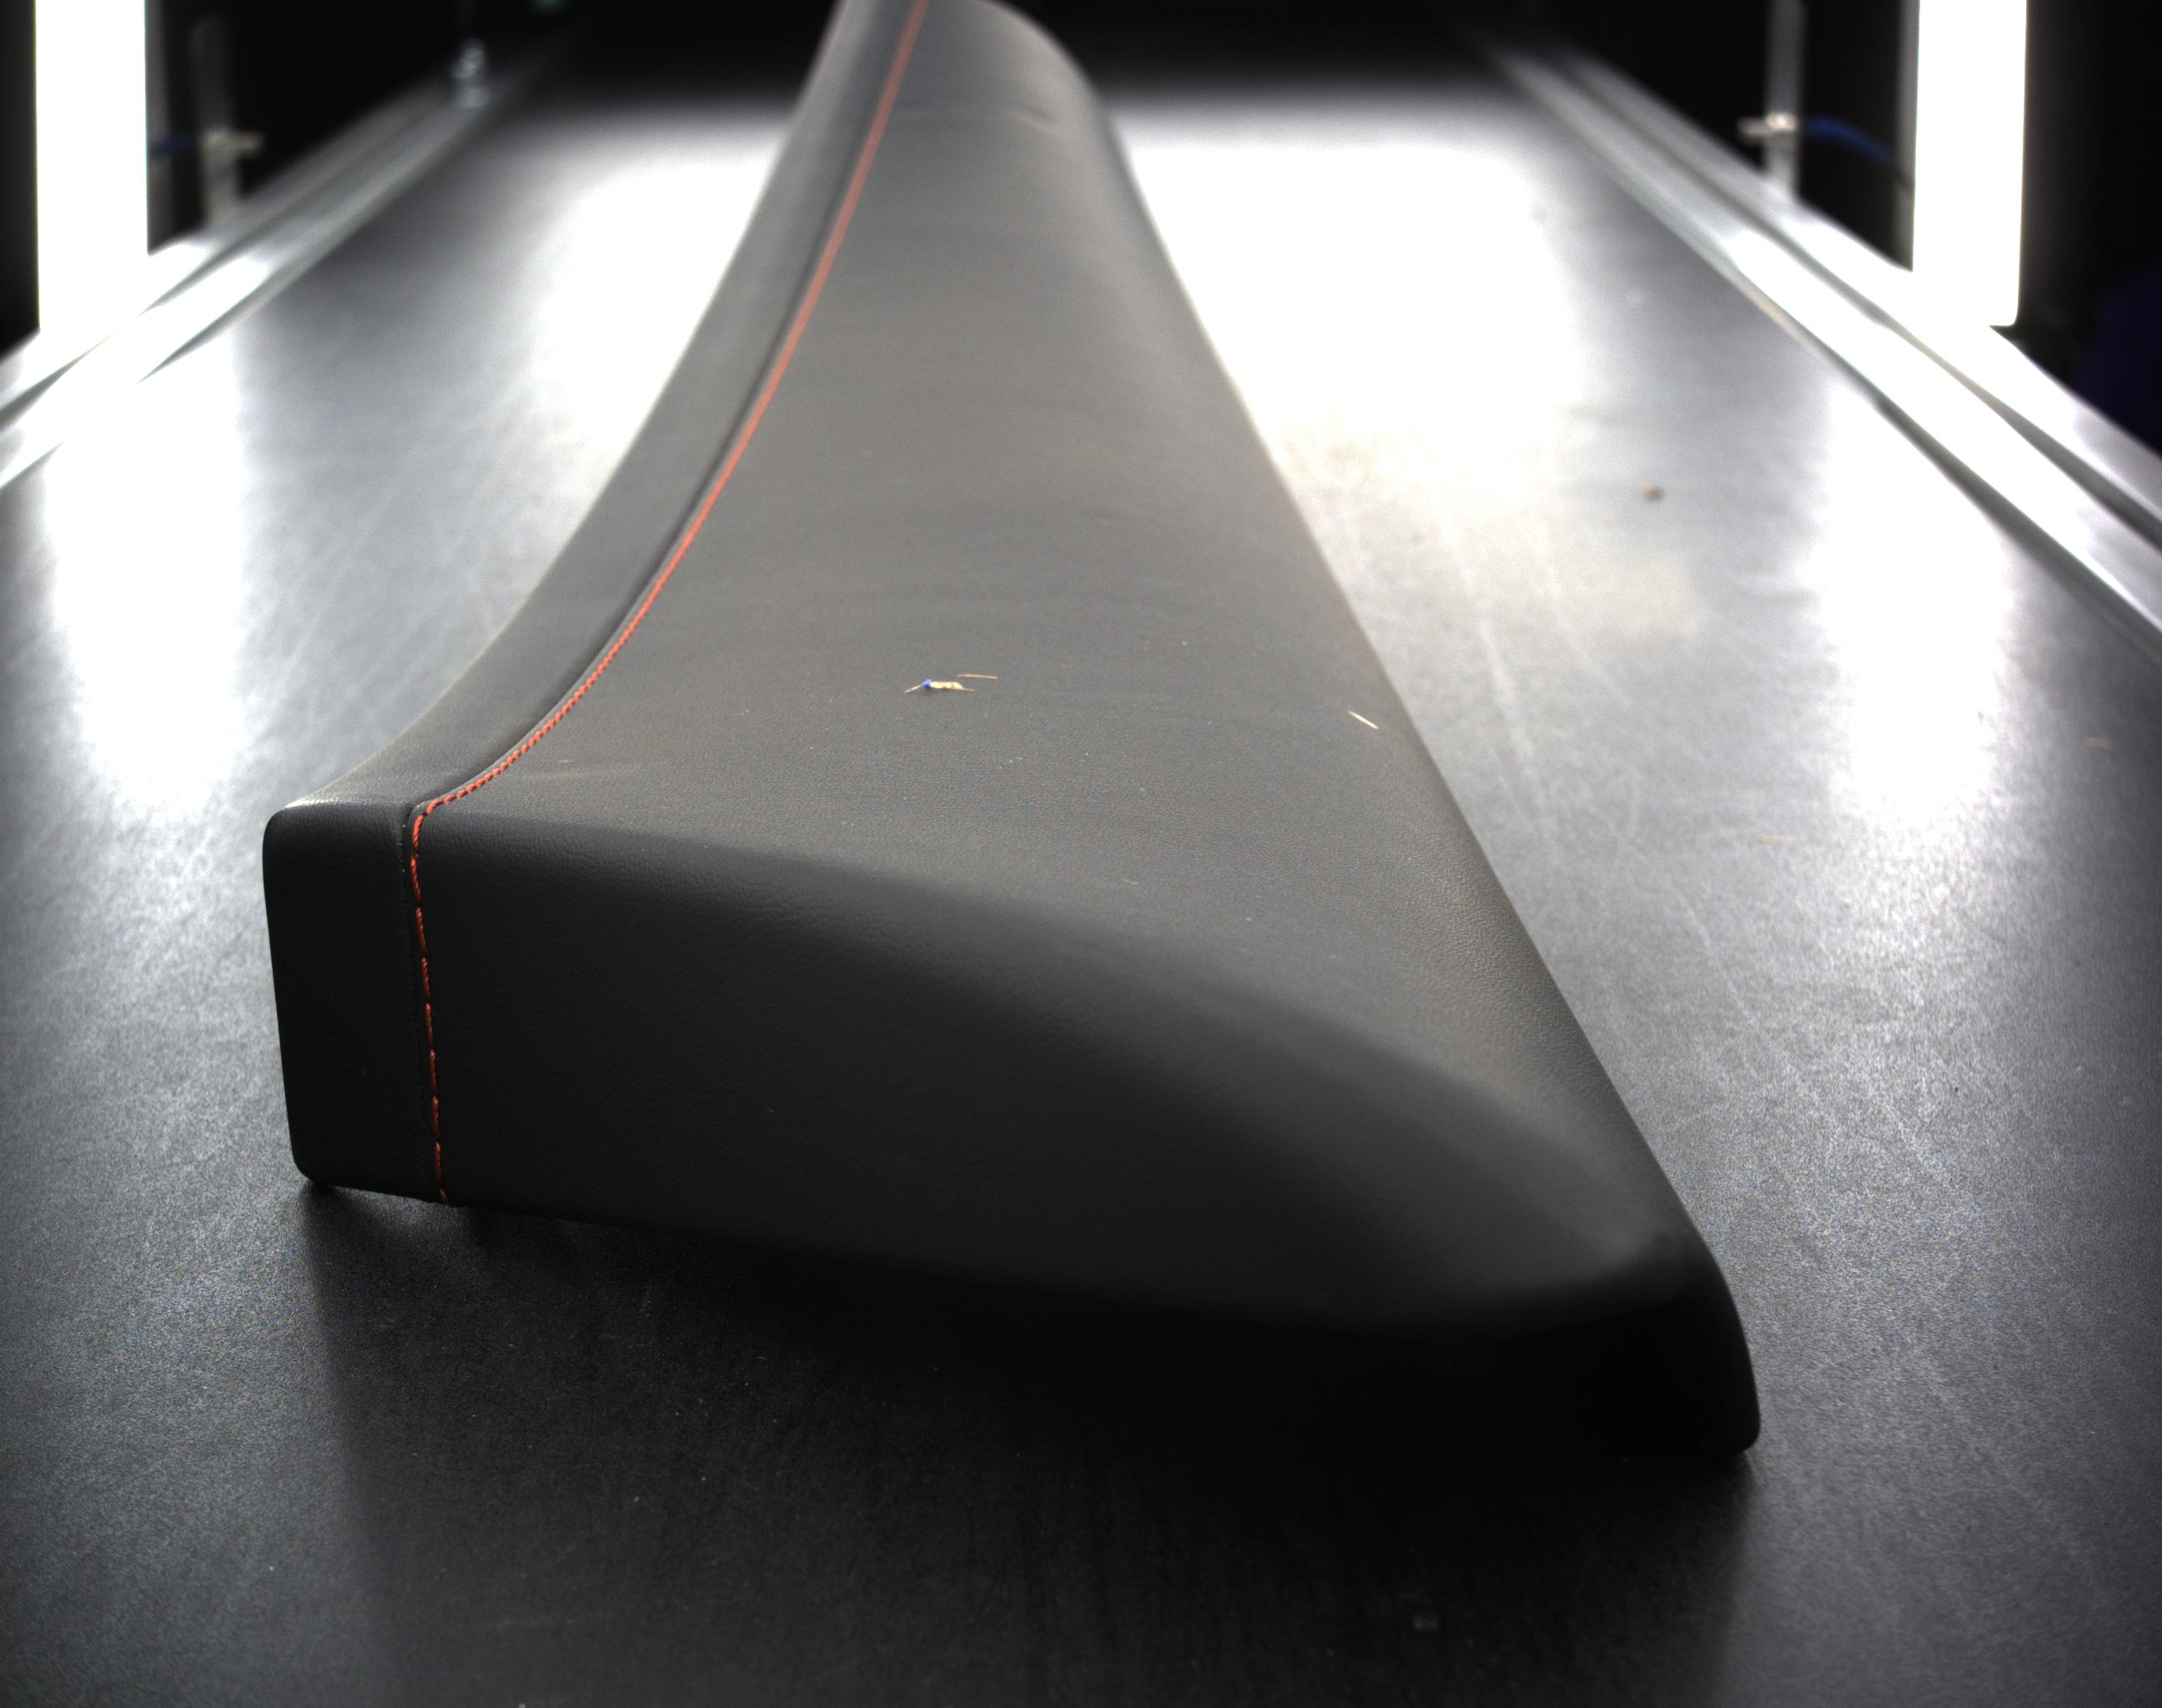vline: (411, 908, 428, 950), (428, 1139, 446, 1181), (407, 857, 423, 902), (416, 955, 432, 999), (425, 1046, 440, 1090), (425, 1094, 440, 1136), (419, 999, 435, 1039), (405, 816, 423, 851)
